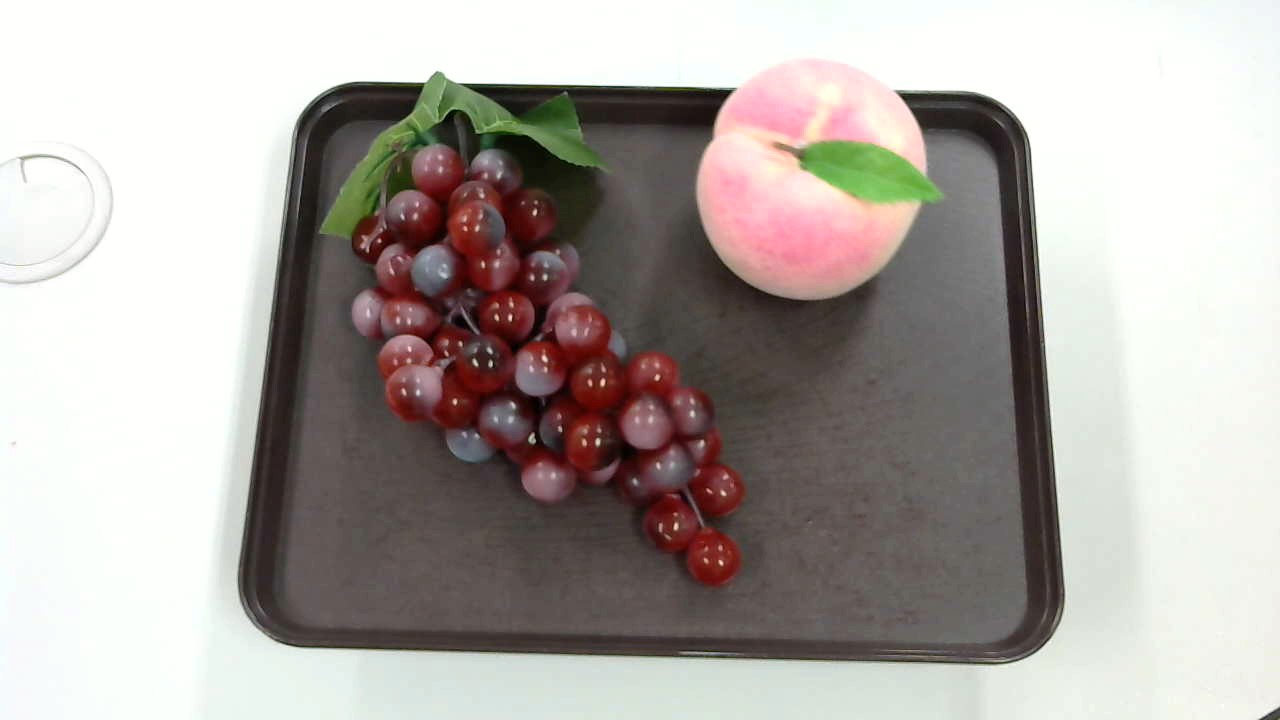grape: (310, 71, 756, 600)
peach: (695, 59, 944, 302)
